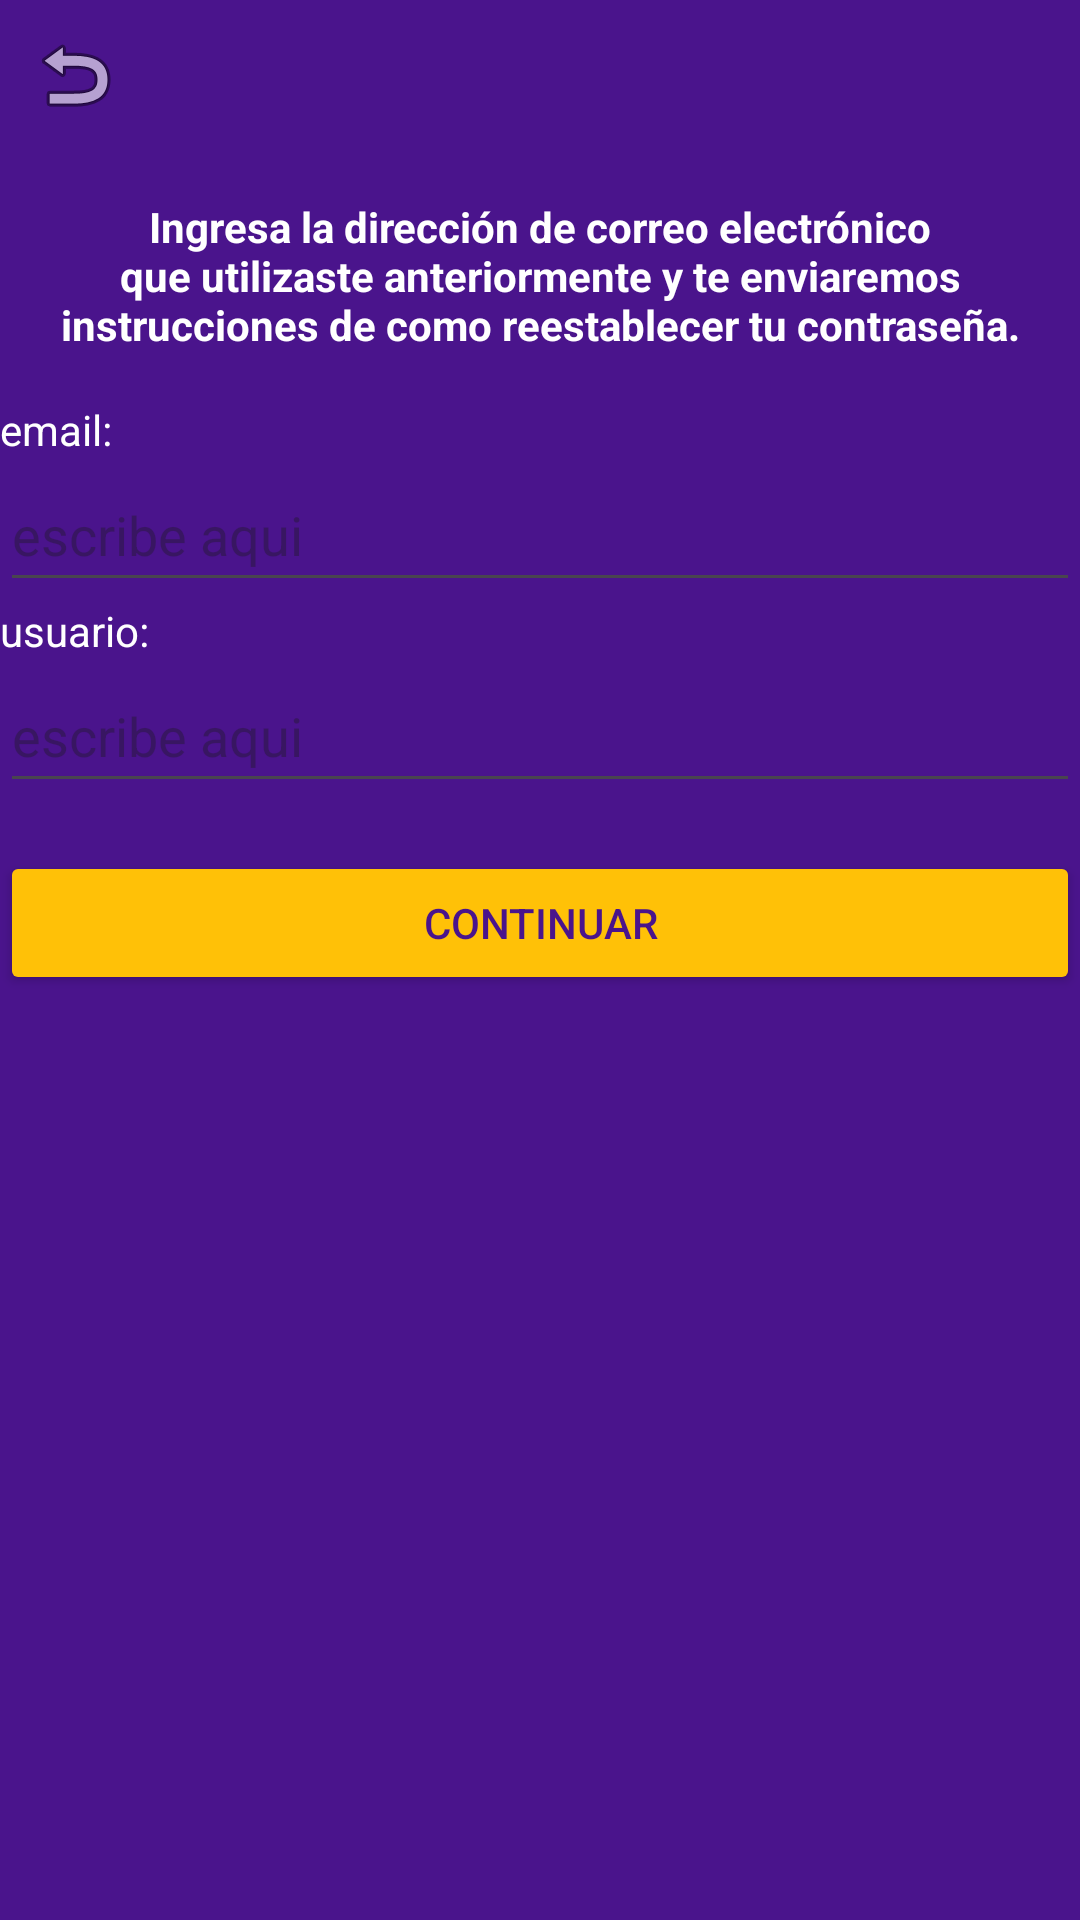

Screen size 1080 x 1920. Icon name, then its center in pixels as point (x, y):
Navega de vuelta a la ventana anterior: point (76, 76)
